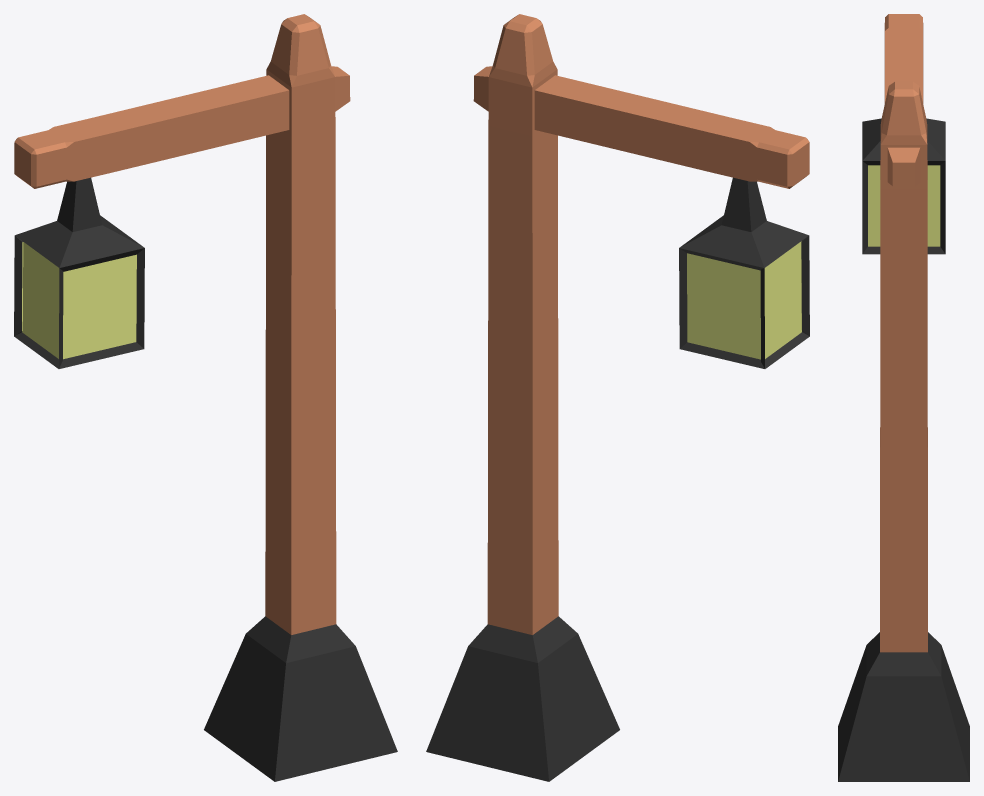
File: StreetLamp.fbx
3 renders of one model, left to right at view 1: azimuth 30°, elevation 25°; view 2: azimuth 150°, elevation 25°; view 3: azimuth 270°, elevation 25°, orthographic. The views are drawn at different scales.
Parts seen in each view (by area): view 1: Cube; view 2: Cube; view 3: Cube.
Part boxes in pixels (left/top/right/bottom): Cube: left=14, top=14, right=397, bottom=781; Cube: left=426, top=14, right=809, bottom=781; Cube: left=838, top=14, right=969, bottom=781.
Size of the model in its own units: 552 by 1119 by 200.
